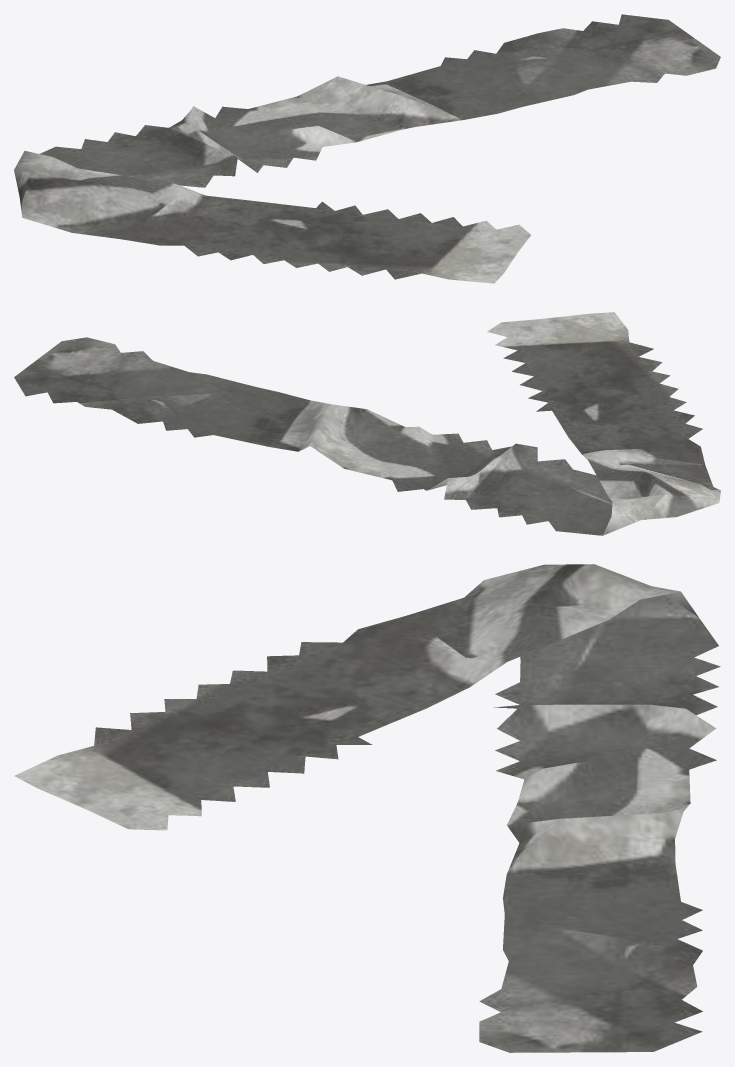
File: rag_sheet_strip_0_lod1_web.glb
3 renders of one model, top to bottom at view 1: azimuth 30°, elevation 25°; view 2: azimuth 150°, elevation 25°; view 3: azimuth 270°, elevation 25°, orthographic. The views are drawn at different scales.
Visible parts, largest first — view 1: rag_sheet_strip_0_Cloth; view 2: rag_sheet_strip_0_Cloth; view 3: rag_sheet_strip_0_Cloth.
Boxes of the visible parts, bbox=[...] form: rag_sheet_strip_0_Cloth: bbox=[14, 14, 720, 283]; rag_sheet_strip_0_Cloth: bbox=[14, 312, 720, 535]; rag_sheet_strip_0_Cloth: bbox=[14, 564, 720, 1052].
Bounding box in the file's own units: 0.7051 × 0.0248 × 0.4416.
1 material, 1 textured.
